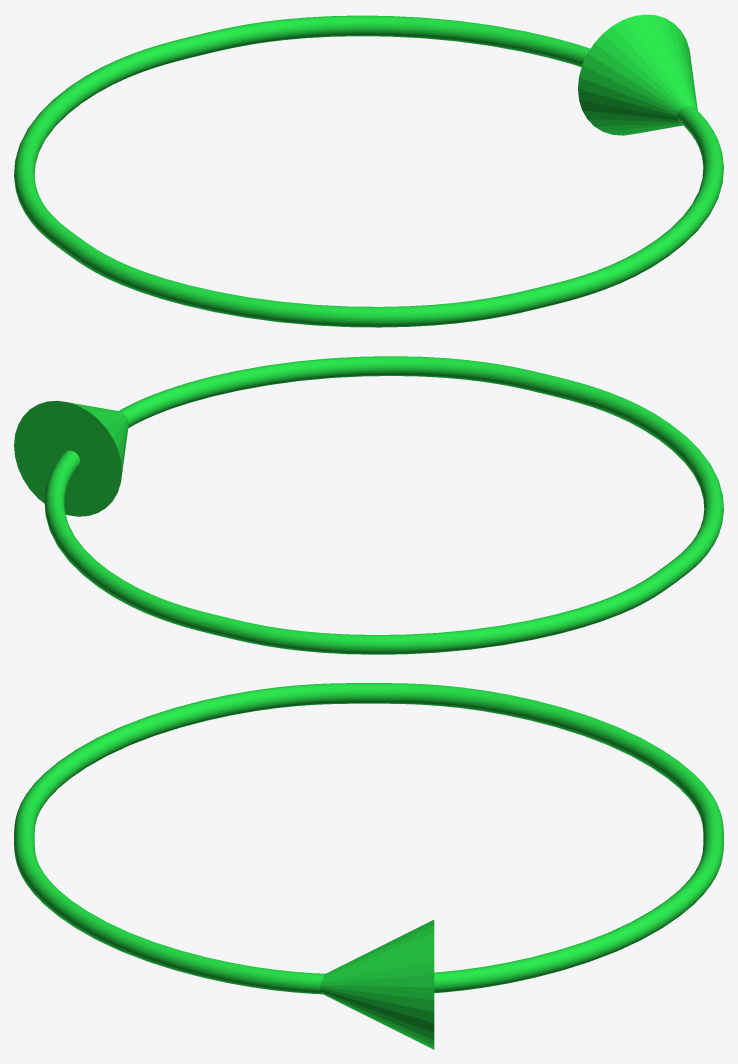
The model's file is campo.dae.
3 renders of one model, top to bottom at view 1: azimuth 30°, elevation 25°; view 2: azimuth 150°, elevation 25°; view 3: azimuth 270°, elevation 25°, orthographic. The views are drawn at different scales.
Parts seen in each view (by area): view 1: NurbsCircle, Cone; view 2: NurbsCircle, Cone; view 3: NurbsCircle, Cone.
Boxes of the visible parts, x1,y1,x2,y2 form: NurbsCircle: (14,15,723,327); Cone: (578,14,697,135); NurbsCircle: (44,356,723,654); Cone: (14,400,128,516); NurbsCircle: (14,683,723,994); Cone: (320,920,434,1049).
Bounding box in the file's own units: 2.22 × 2.06 × 0.3788.
